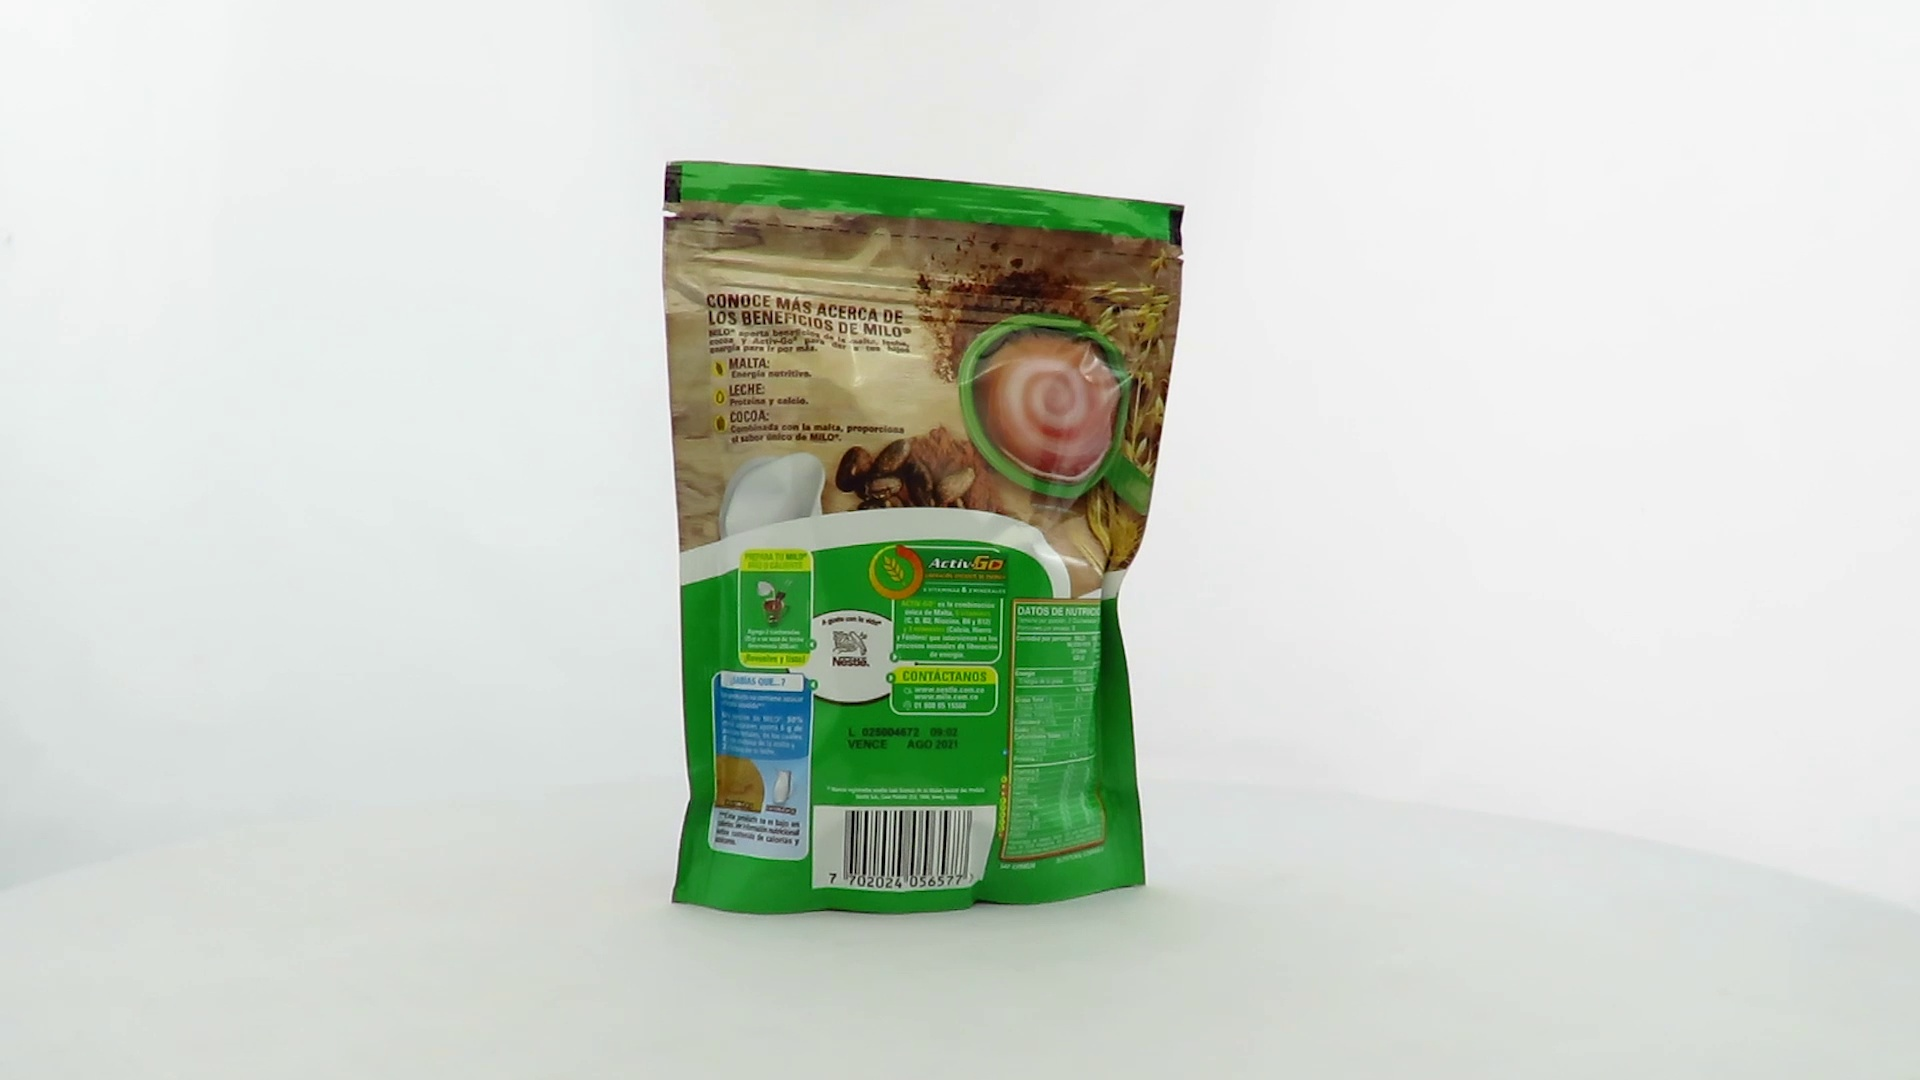COL0170205DYP20000: (657, 156, 1191, 922)
